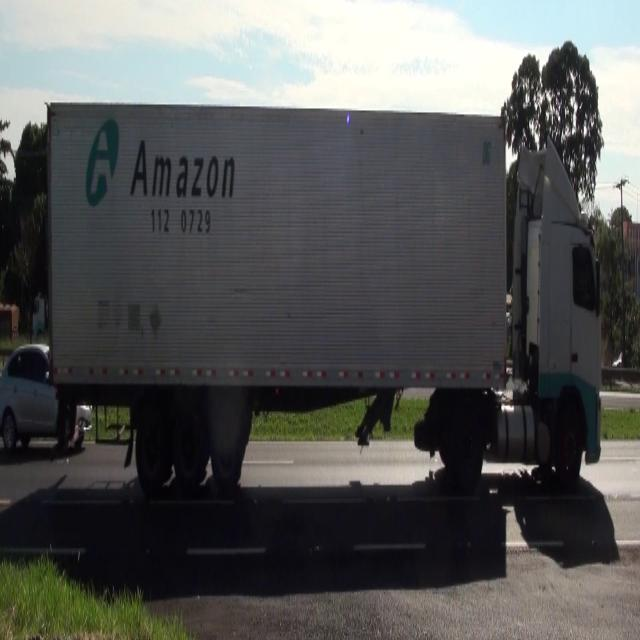-axle: (210, 404, 243, 496), (136, 403, 168, 491), (173, 398, 204, 487), (454, 409, 484, 493), (557, 403, 585, 492)
